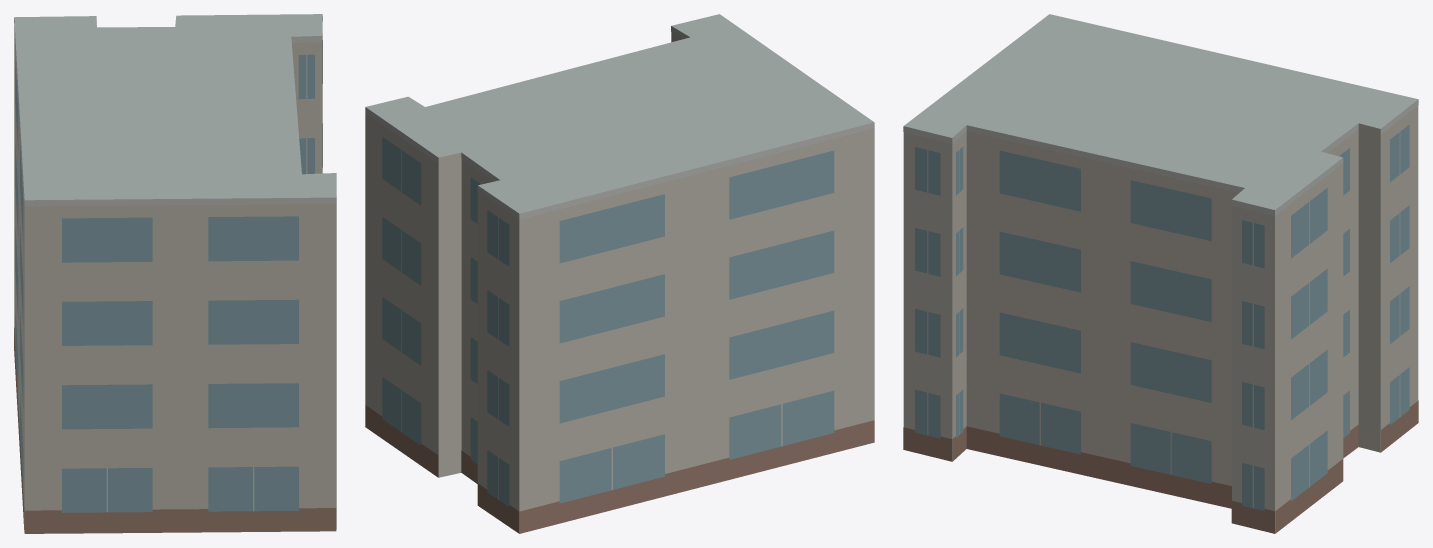
The model's file is survey-upis-32630566.glb.
3 renders of one model, left to right at view 1: azimuth 30°, elevation 25°; view 2: azimuth 150°, elevation 25°; view 3: azimuth 270°, elevation 25°, orthographic. The views are drawn at different scales.
Visible parts, largest first — view 1: survey-upis-32630566.tmp; view 2: survey-upis-32630566.tmp; view 3: survey-upis-32630566.tmp.
Boxes of the visible parts, box(x1,y1,x2,y2) form: survey-upis-32630566.tmp: box(14, 14, 336, 533); survey-upis-32630566.tmp: box(365, 14, 874, 533); survey-upis-32630566.tmp: box(903, 14, 1418, 533).
Size of the model in its own units: 17.16 by 13.2 by 19.04.
